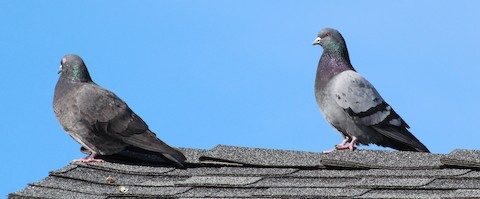pigeon: (310, 24, 439, 161), (48, 50, 191, 173)
